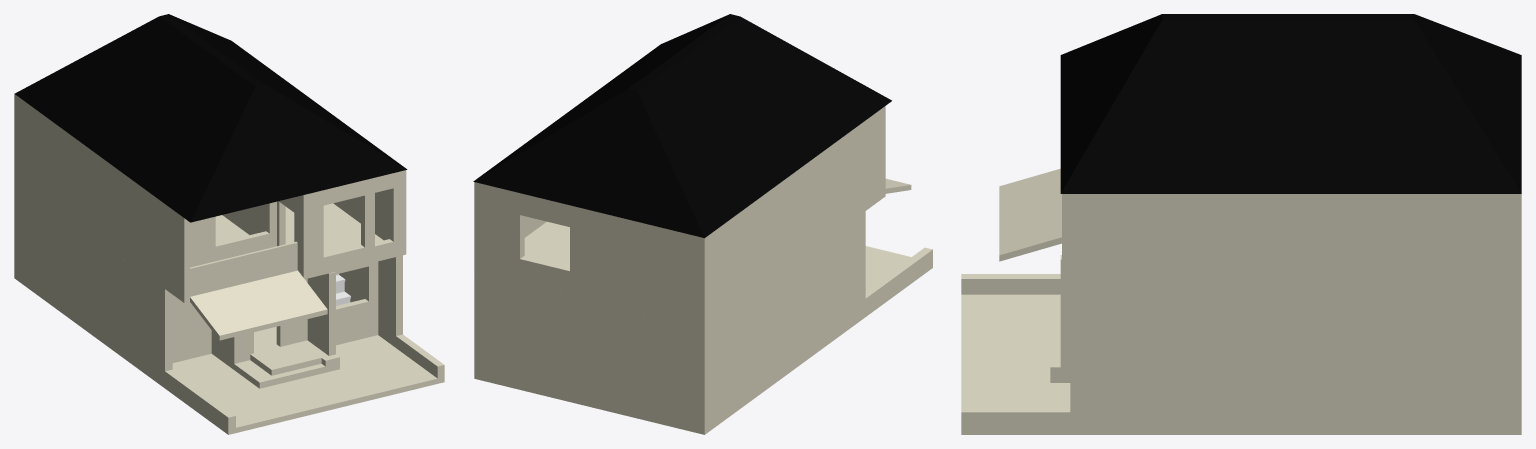
File: denahrumah2l.glb
3 renders of one model, left to right at view 1: azimuth 30°, elevation 25°; view 2: azimuth 150°, elevation 25°; view 3: azimuth 270°, elevation 25°, orthographic. The views are drawn at different scales.
Visible parts, largest first — view 1: lantai1, genteng, lantai2; view 2: genteng, lantai1, lantai2; view 3: genteng, lantai1, lantai2.
Boxes of the visible parts, <box> form: lantai1: <box>14,179,444,434</box>; genteng: <box>14,14,407,222</box>; lantai2: <box>14,94,406,340</box>; genteng: <box>473,14,891,238</box>; lantai1: <box>474,211,932,434</box>; lantai2: <box>474,106,911,328</box>; genteng: <box>1060,14,1521,193</box>; lantai1: <box>961,255,1521,434</box>; lantai2: <box>999,168,1521,304</box>.
Bounding box in the file's own units: 0.9657 × 1.14 × 1.65.
